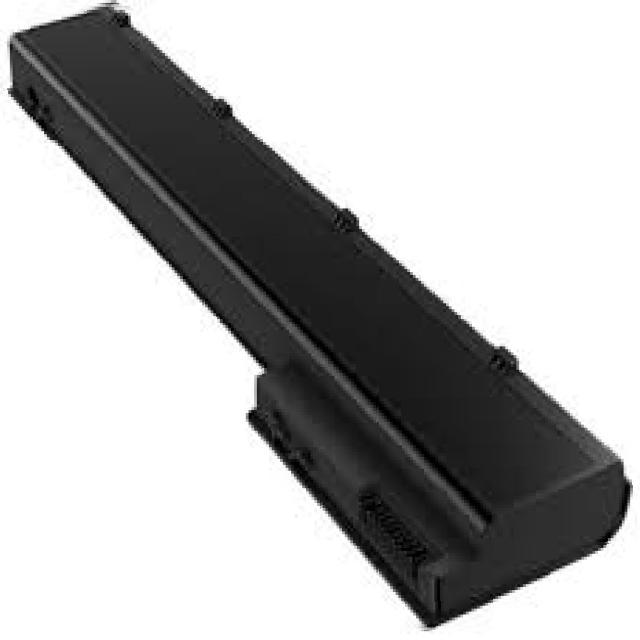Battery: (15, 6, 640, 640)
